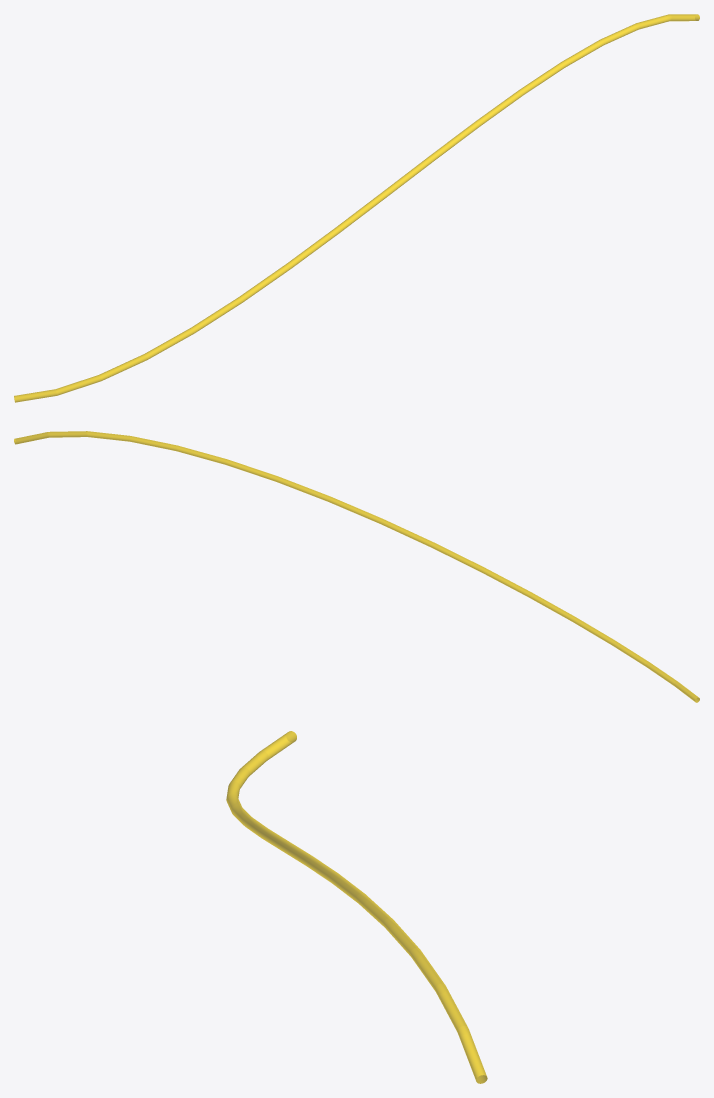
Rendered from Event_402970704_track_45.fbx.
The picture shows the model from 3 angles, top to bottom: view 1: azimuth 30°, elevation 25°; view 2: azimuth 150°, elevation 25°; view 3: azimuth 270°, elevation 25°; orthographic projection. The views are drawn at different scales.
Visible parts, largest first — view 1: Model; view 2: Model; view 3: Model.
Part boxes in pixels (x1=…): Model: x1=14, y1=14, x2=699, y2=402; Model: x1=14, y1=431, x2=699, y2=702; Model: x1=226, y1=731, x2=487, y2=1083.
Bounding box in the file's own units: 4.97 × 1.19 × 0.8829.
